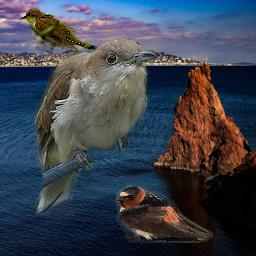Cuckoo: (31, 36, 157, 216), (20, 8, 111, 55)
Swallow: (116, 185, 213, 243)
